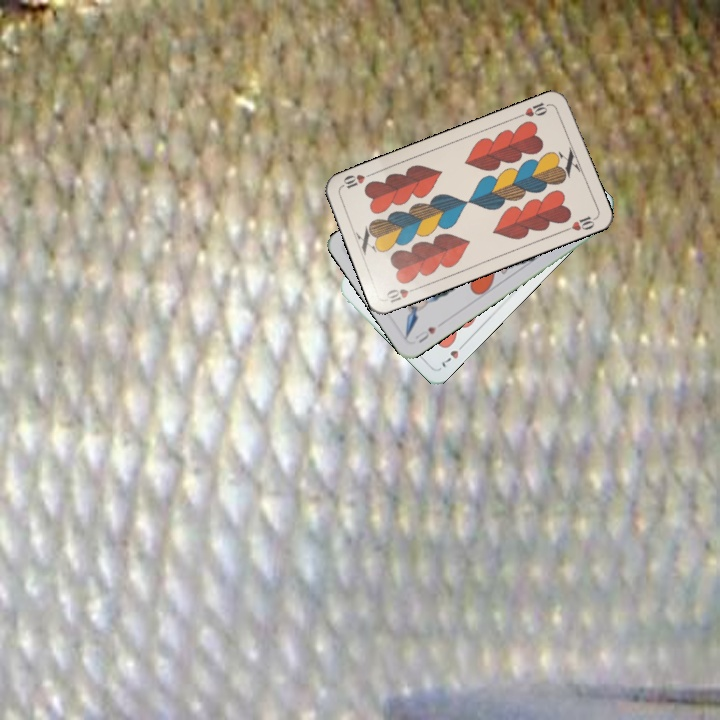H10: (382, 283, 422, 306), (514, 98, 553, 120)
H7: (438, 338, 469, 370)
HU: (411, 322, 439, 345)
